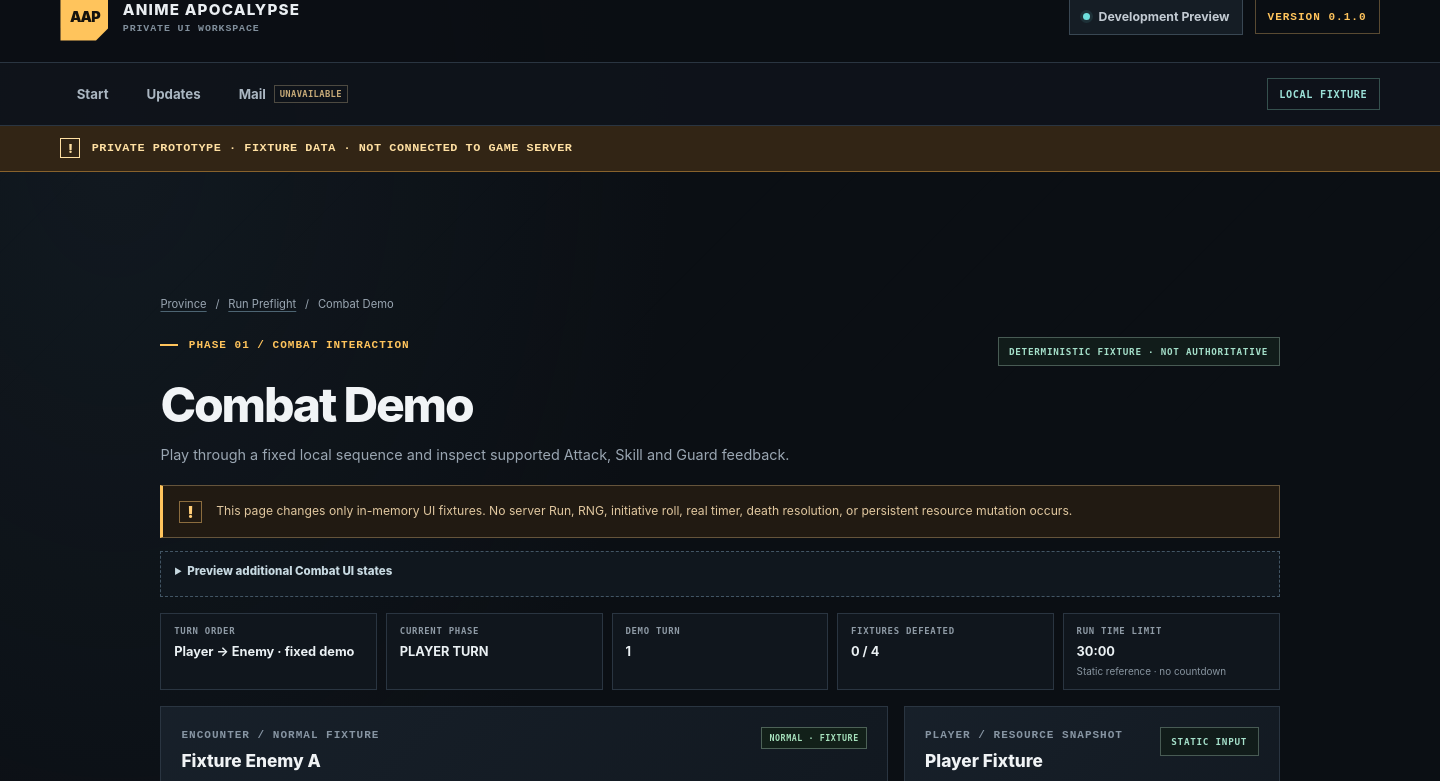
Test: P1-UI-006 Escape and Surrender confirmations › uses retained main-loot weight for a return-encounter Escape and not encounter loot
Click the heading "Preview additional Combat UI states" at [290, 571], box [187, 564, 392, 578]
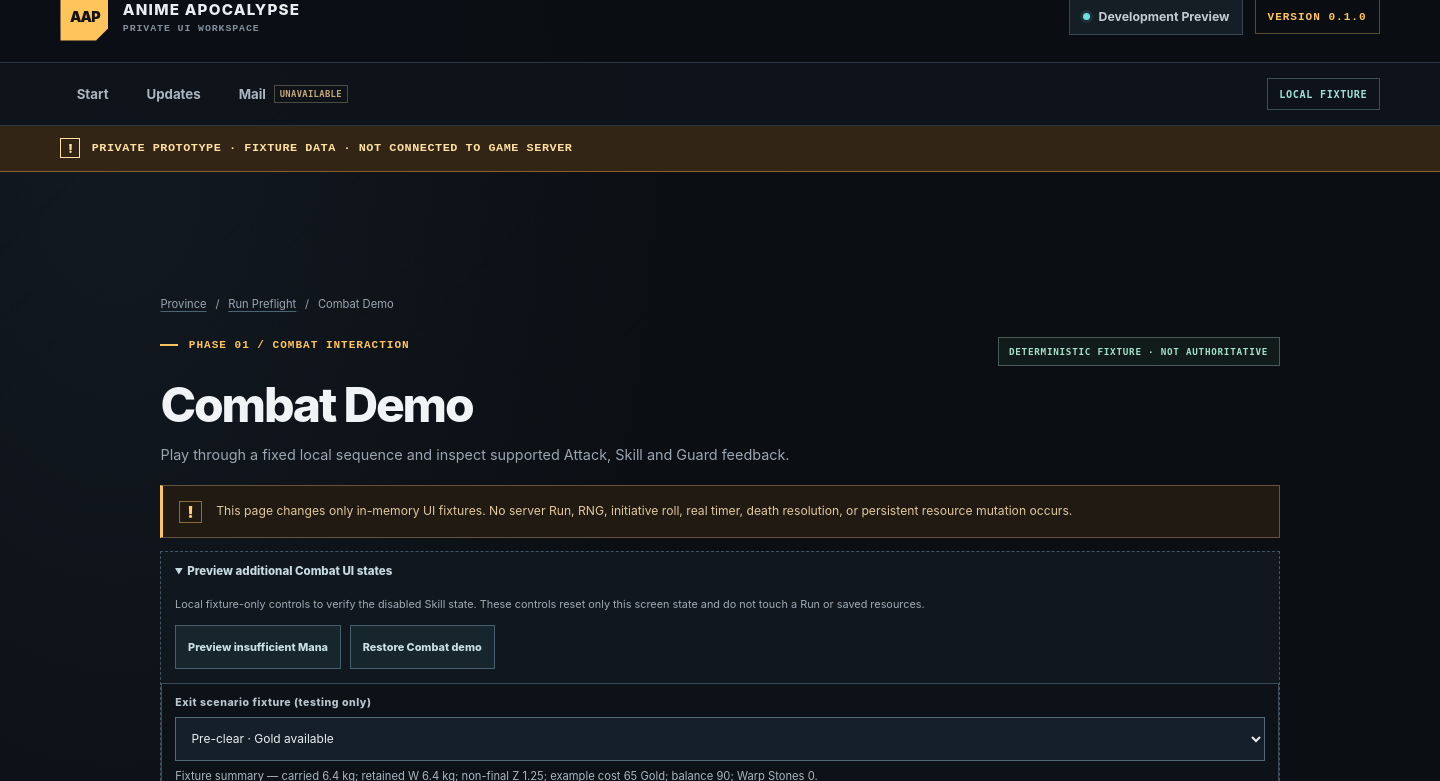
Select "Return encounter · main loot retained" in the dropdown with test id "combat-exit-fixture-select" at [720, 739], box [175, 717, 1265, 761]
(page scrolled)
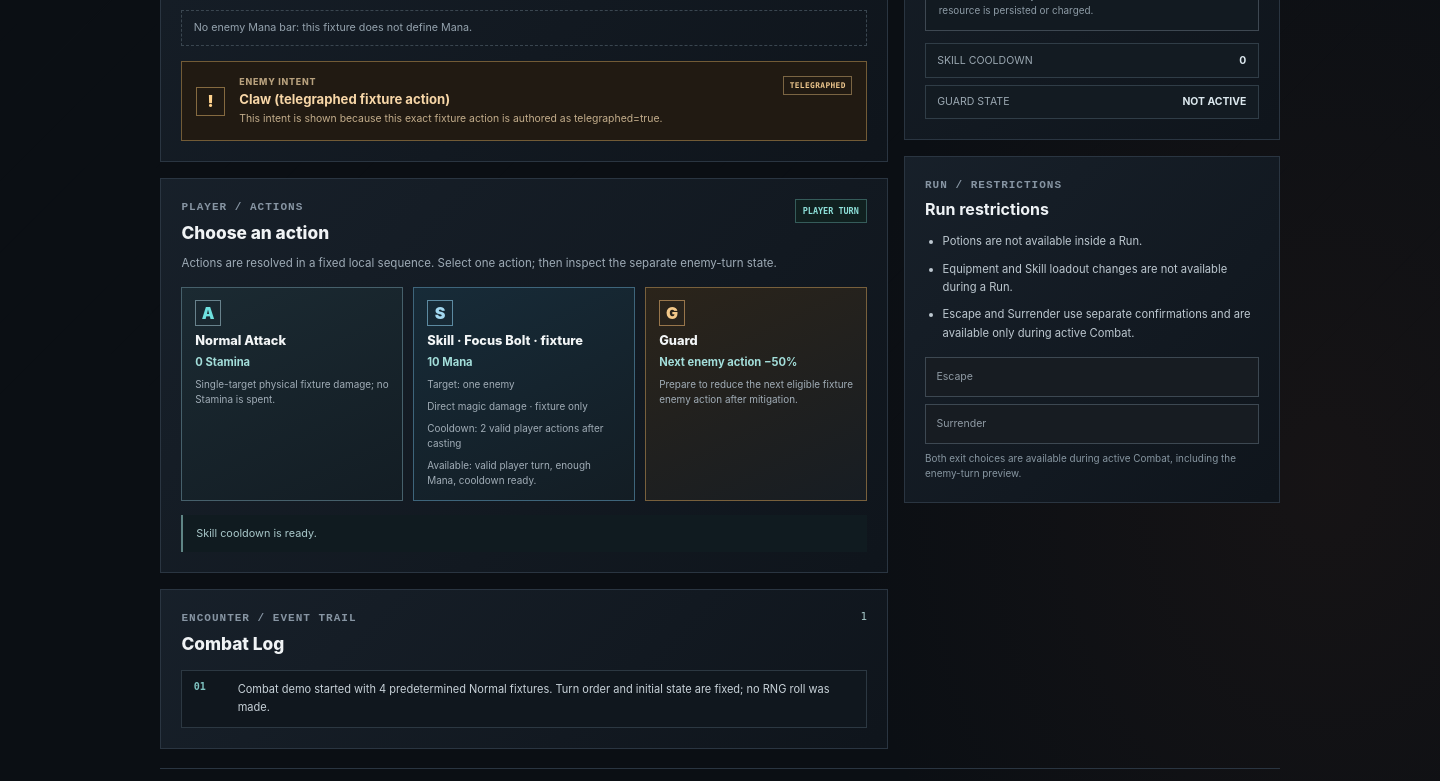
Click the button with test id "combat-action-escape" at [955, 377], box [925, 357, 1258, 397]
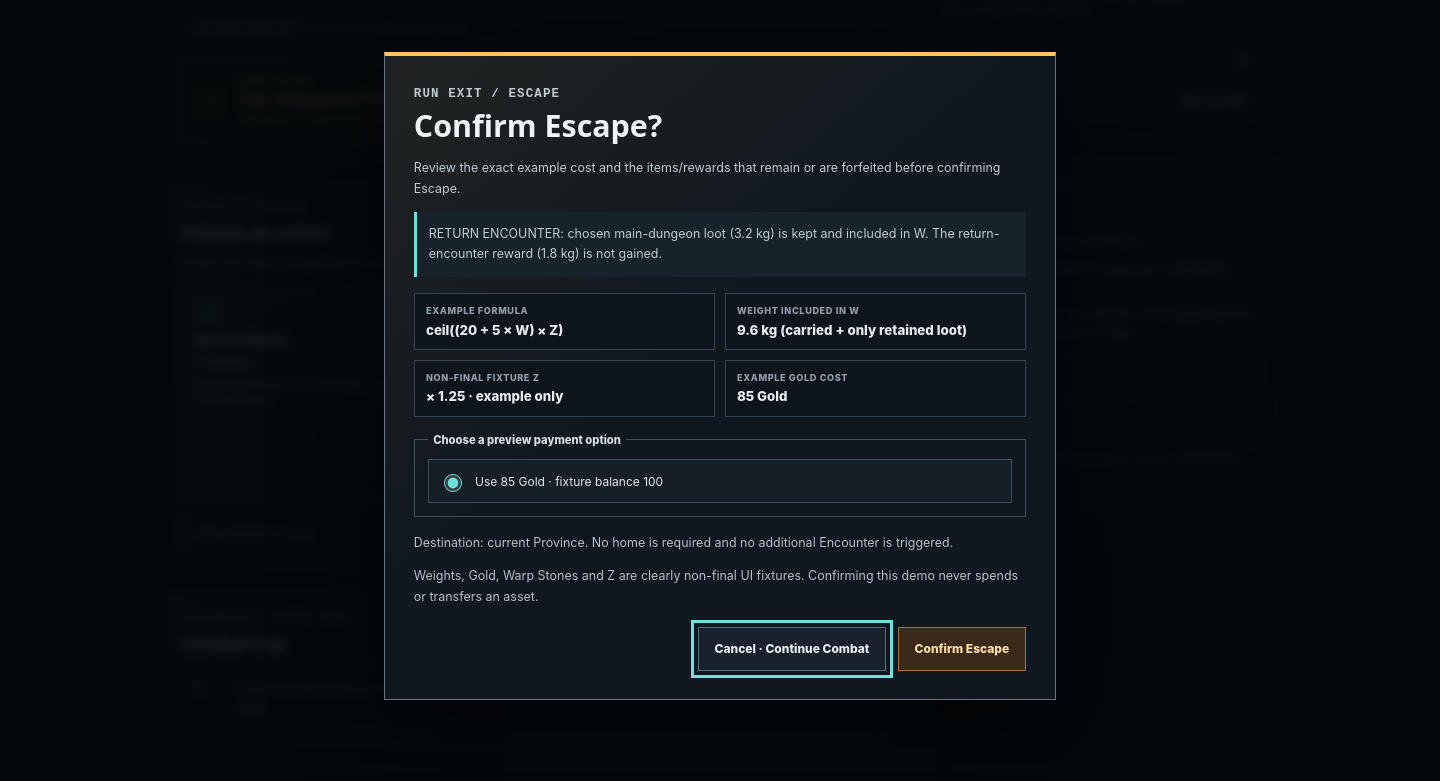
Expected: the text with test id "combat-escape-gold-cost" reads "85 Gold", [737, 388, 788, 404]
Expected: the text "return-encounter reward (1.8 kg) is not gained" is shown, [429, 226, 999, 262]
Click the button with test id "combat-exit-confirm-escape" at [962, 649], box [898, 627, 1026, 671]
(page scrolled)
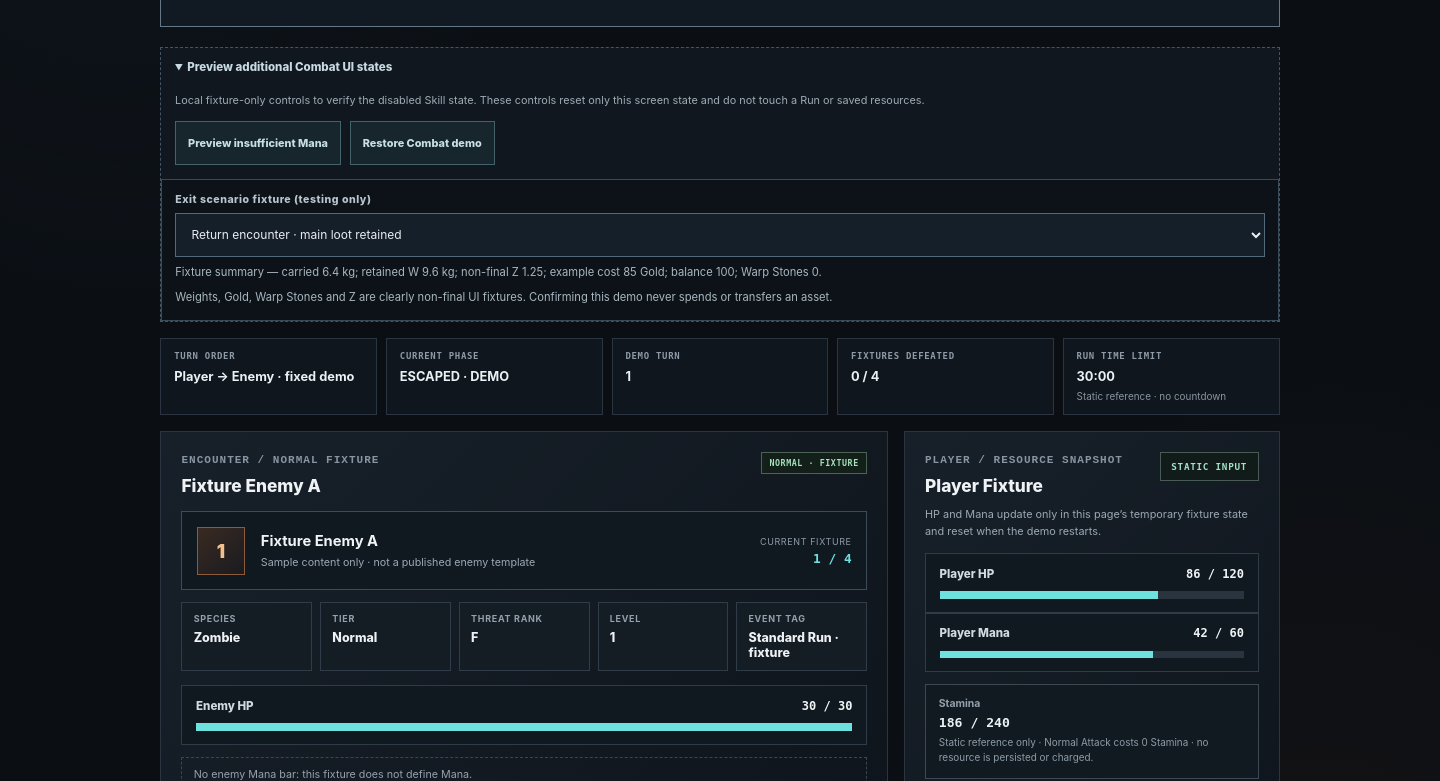
Expected: the text with test id "combat-phase" reads "ESCAPED · DEMO", [400, 368, 509, 384]
